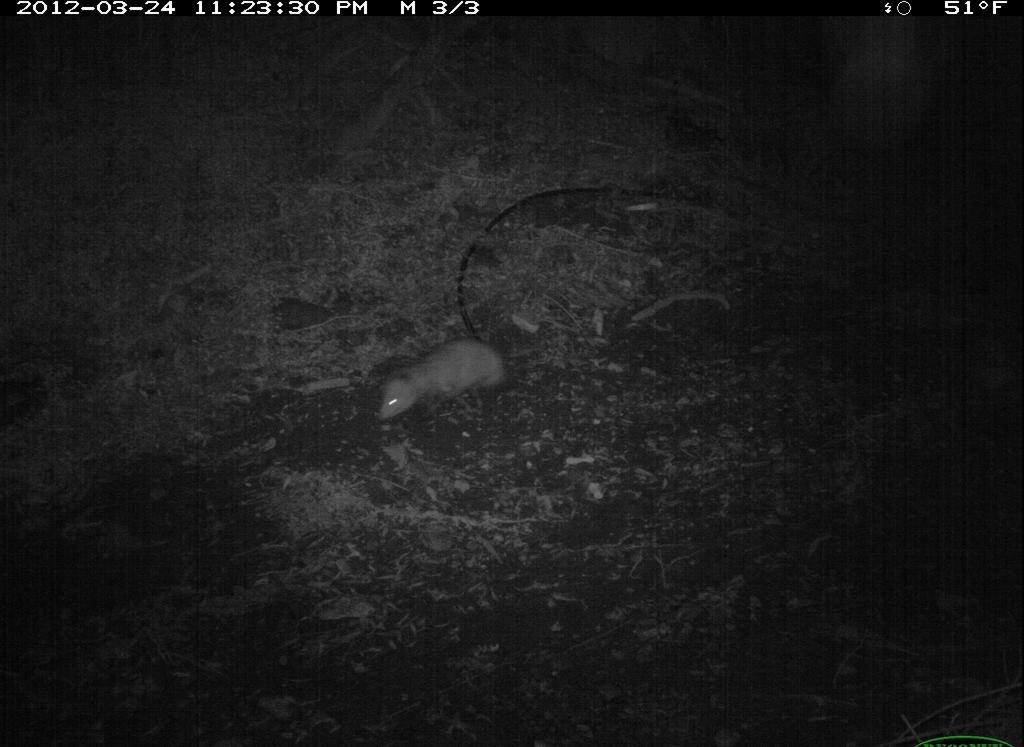opossum: (361, 322, 536, 445)
